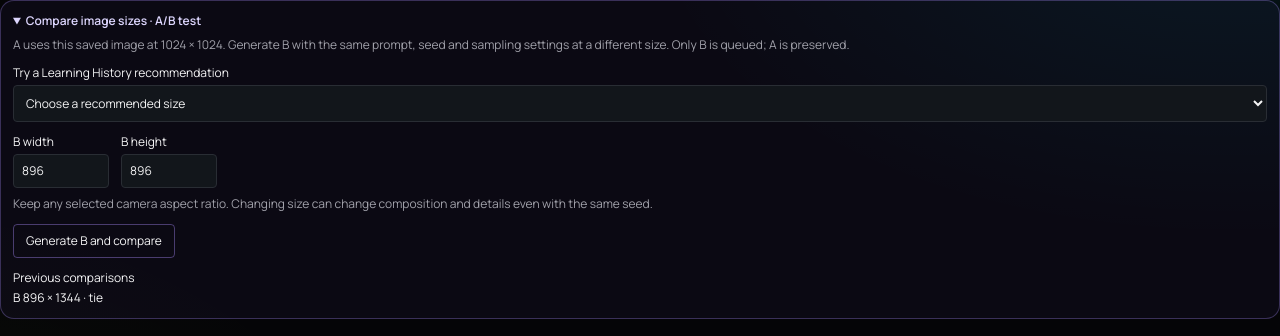
loads recommendations and previous comparisons when opened
Expected: the link to "/compare/prior" is shown, [13,289,103,306]
Select "768 × 1152 · 3/4 framing matches" in the dropdown labelled "Try a Learning History recommendation" at (640, 104), box [13,85,1267,122]
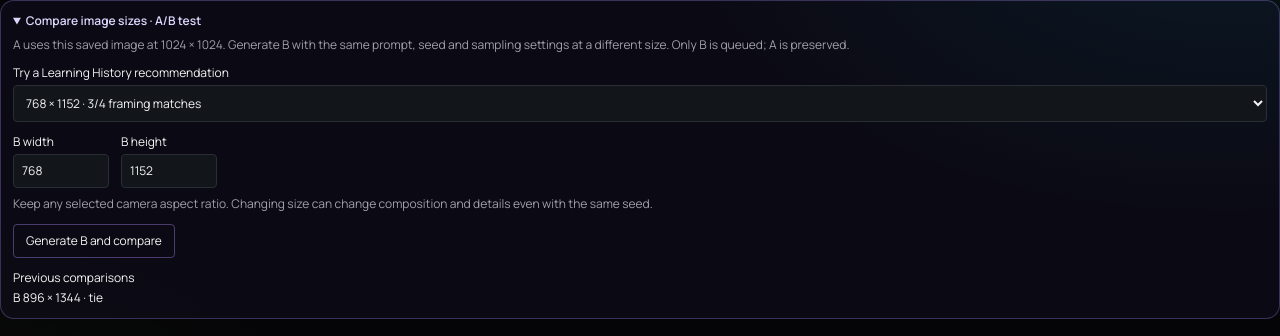
Result: the number field named "Comparison B width" holds "768" at [13,154,109,188]
Result: the number field named "Comparison B height" holds "1152" at [121,154,217,188]
